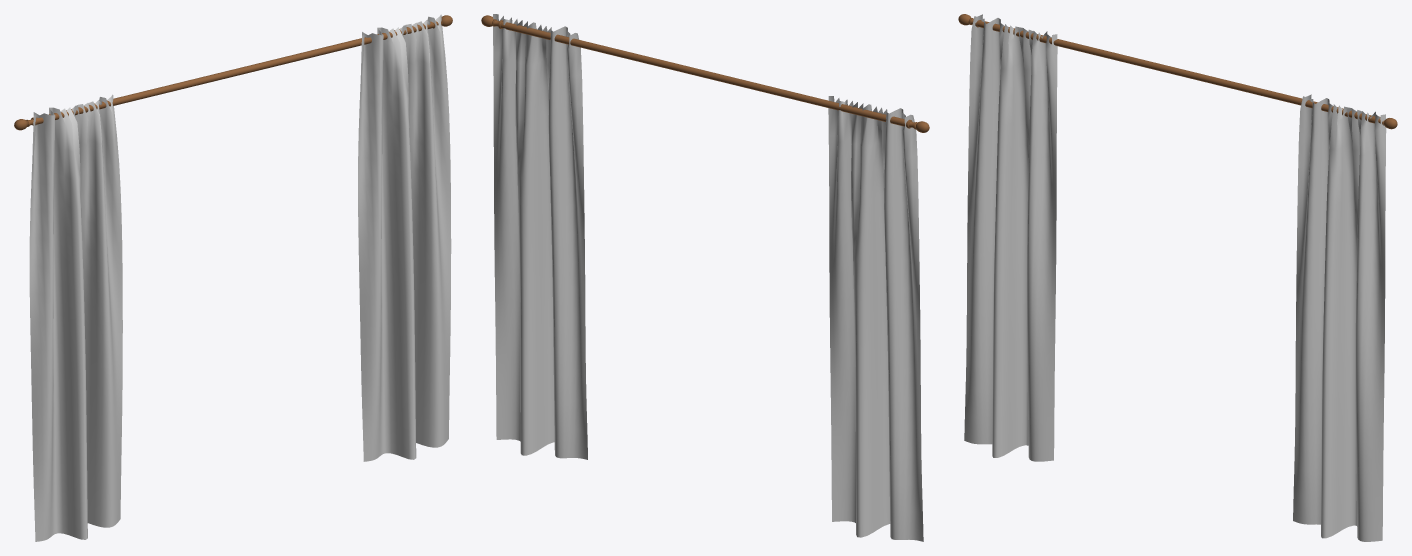
The model's file is CurtainsWithRod.glb.
3 views of the same model, side by side, from view 1: azimuth 30°, elevation 25°; view 2: azimuth 150°, elevation 25°; view 3: azimuth 330°, elevation 25° (orthographic). The views are drawn at different scales.
Parts seen in each view (by area): view 1: Curtains with Rod; view 2: Curtains with Rod; view 3: Curtains with Rod.
Boxes of the visible parts, x1,y1,x2,y2 form: Curtains with Rod: (14, 14, 452, 541); Curtains with Rod: (481, 14, 929, 541); Curtains with Rod: (958, 14, 1397, 541).
Size of the model in its own units: 3.46 by 3.19 by 0.3055.
